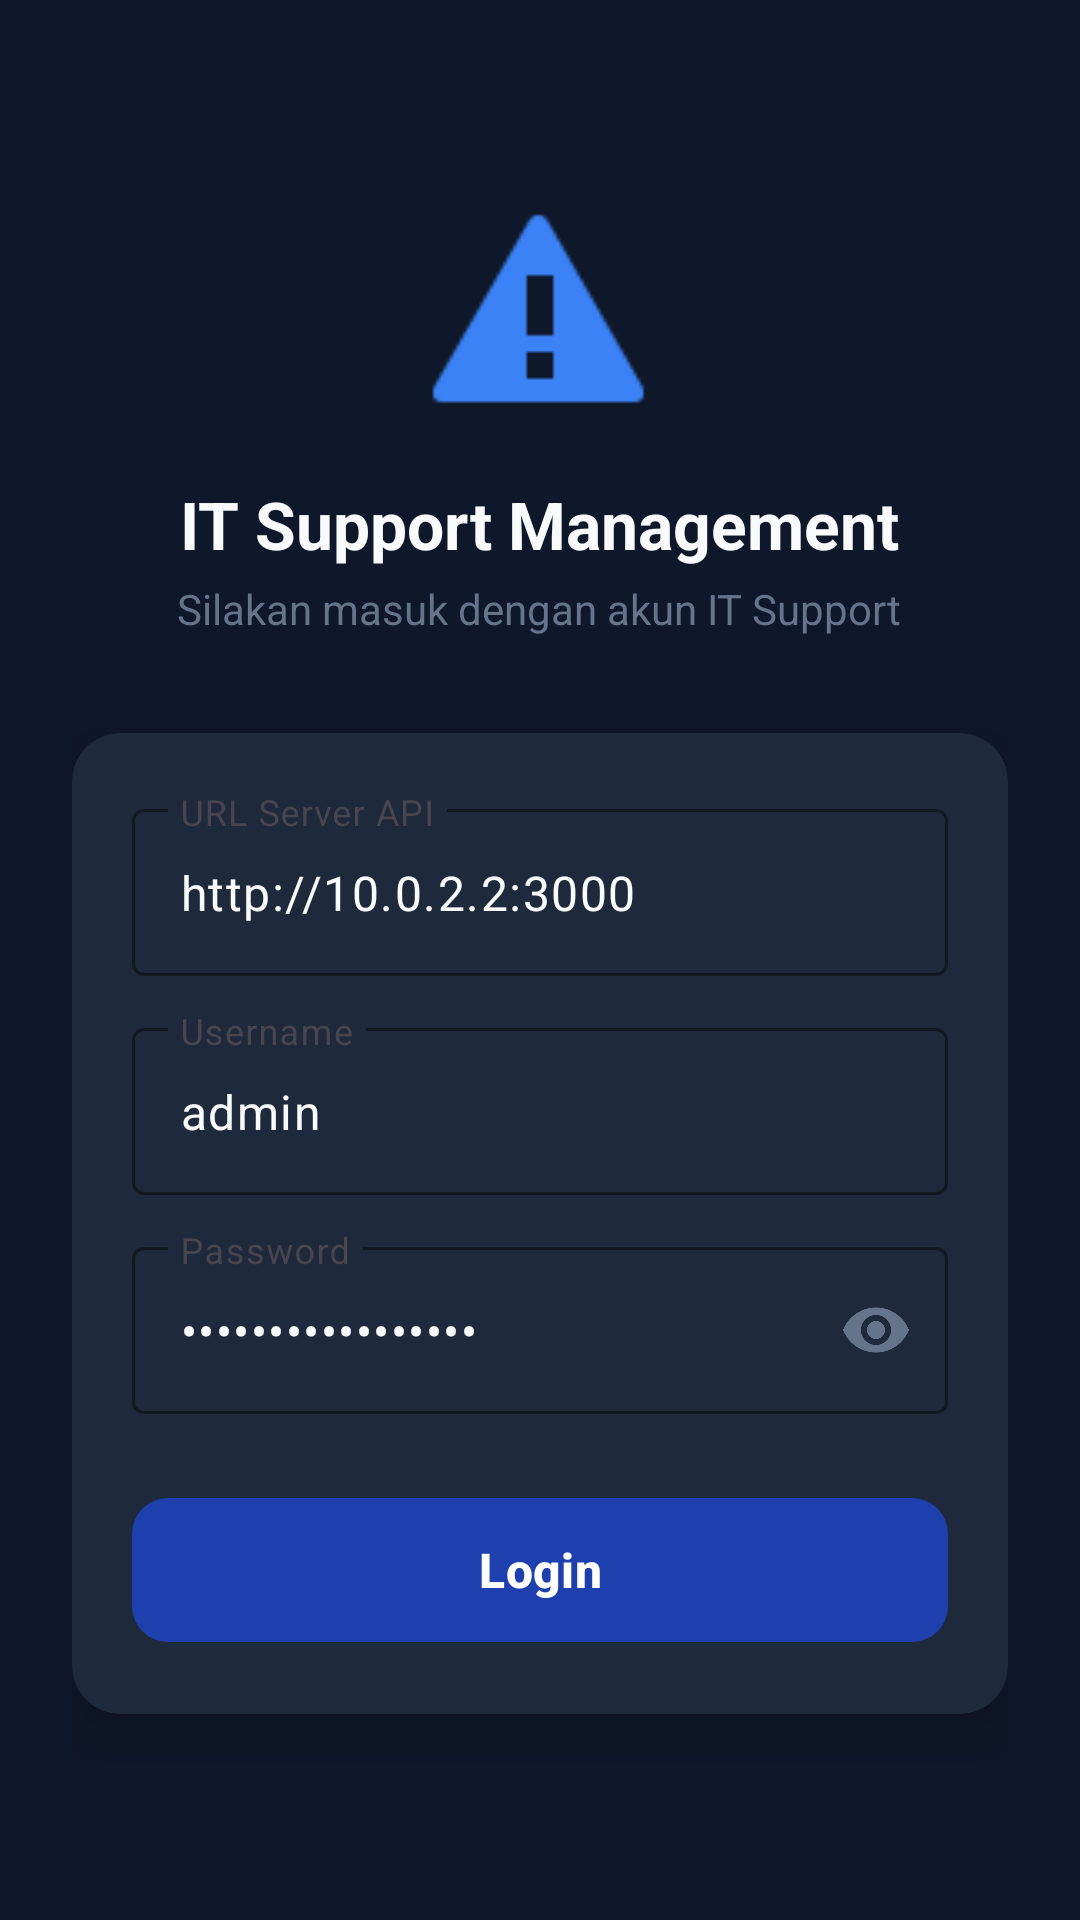

Screen size 1080 x 1920. Icon name, then its box in pixels as (x1, y1, x2, y2):
warning: (432, 214, 645, 403)
